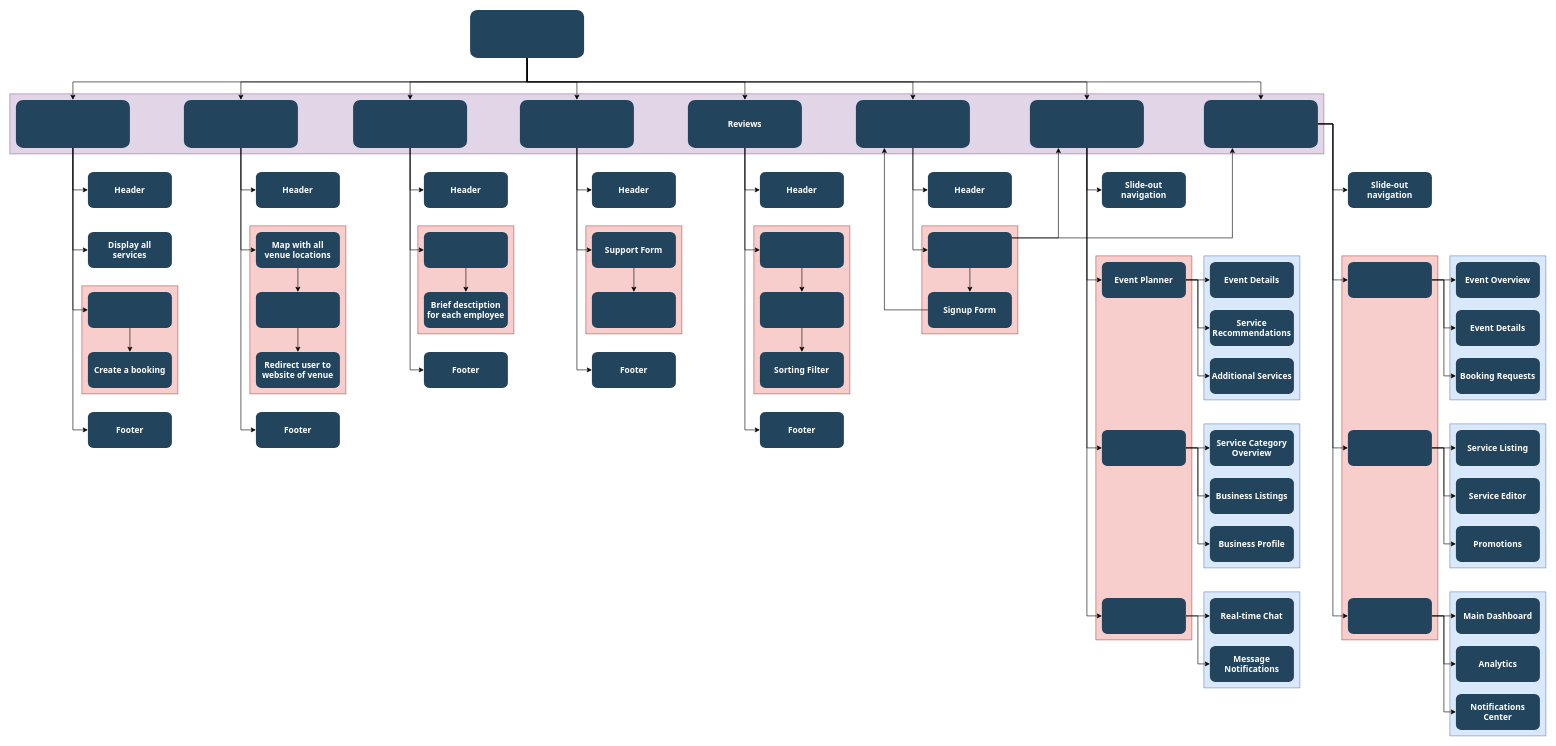
Image size: 1556x746. Some labels were removed from this diagram. The box of each missing label's shape, as (x1, y1, x2, y2) in pixels:
Business Dashboard: (1204, 100, 1318, 148)
Creates a ticket: (592, 292, 676, 328)
Customer Dashboard: (1030, 100, 1144, 148)
Customer Support: (520, 100, 634, 148)
Dashboard: (1348, 598, 1432, 634)
Direct Messaging: (1102, 598, 1186, 634)
Event Management: (1348, 262, 1432, 298)
Homepage: (470, 10, 584, 58)
List of all employees per venue: (424, 232, 508, 268)
List of all reviews per service: (760, 292, 844, 328)
Locations: (184, 100, 298, 148)
Login: (856, 100, 970, 148)
Login Form: (928, 232, 1012, 268)
Purchase a Service: (88, 292, 172, 328)
Sections for each service offered: (760, 232, 844, 268)
Service Browsing: (1102, 430, 1186, 466)
Service Management: (1348, 430, 1432, 466)
Services: (16, 100, 130, 148)
The Team: (353, 100, 467, 148)
View information for each location: (256, 292, 340, 328)
